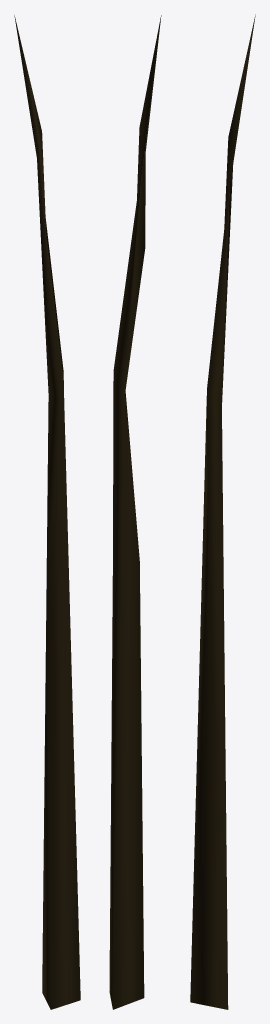
The model's file is PineLOD1Trunk.fbx.
3 views of the same model, side by side, from view 1: azimuth 90°, elevation 25°; view 2: azimuth 210°, elevation 25°; view 3: azimuth 270°, elevation 25° (orthographic).
Parts seen in each view (by area): view 1: PineLOD1; view 2: PineLOD1; view 3: PineLOD1.
Boxes of the visible parts, left/top/right/bottom form: PineLOD1: left=14, top=15, right=80, bottom=1009; PineLOD1: left=109, top=15, right=161, bottom=1009; PineLOD1: left=190, top=14, right=255, bottom=1009.
Bounding box in the file's own units: 77.22 × 2060 × 125.
